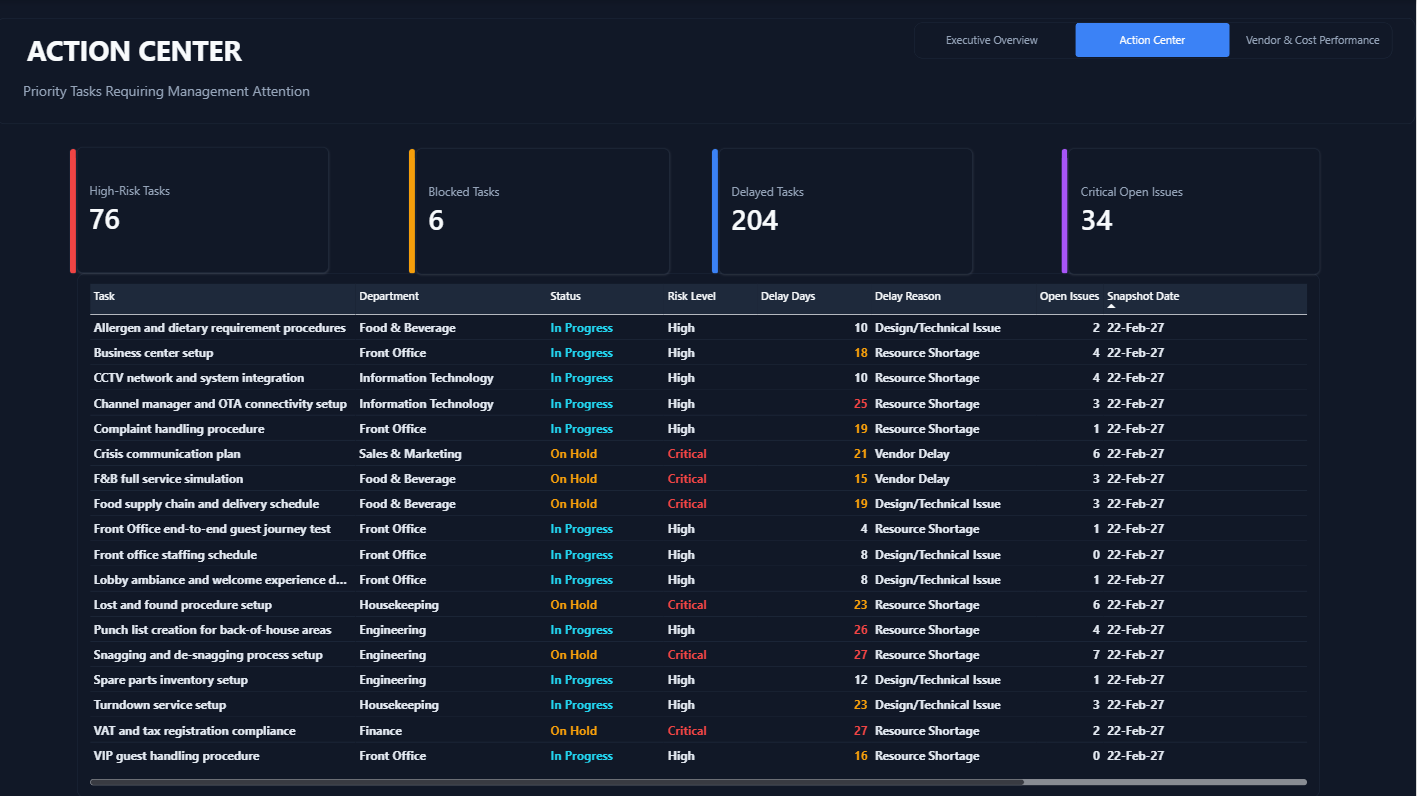

This screenshot's page, from the dashboard's own definition file:
{"tool":"powerbi","page":{"name":"Action Center","canvas":[1920,1080],"ordinal":1},"visuals":[{"type":"tableEx","fields":{"Values":["Tasks.Task_Name","Departments.Department_Name","TaskSnapshots.Status","TaskSnapshots.Risk_Level","Sum(TaskSnapshots.Delay_Days)","TaskSnapshots.Delay_Reason","Sum(TaskSnapshots.Open_Issues)","TaskSnapshots.Snapshot_Date"]},"box":[110,370,1680,710],"z":0},{"type":"textbox","box":[0,23.3,1920,143.3],"z":1000},{"type":"cardVisual","fields":{"Data":["Departments.High-Risk Tasks"]},"box":[109.6,199.2,340,170],"z":2000},{"type":"cardVisual","fields":{"Data":["Departments.Blocked Tasks"]},"box":[567.5,200,342.5,170],"z":3000},{"type":"cardVisual","fields":{"Data":["Departments.Delayed Tasks"]},"box":[977.5,200,342.5,170],"z":4000},{"type":"cardVisual","fields":{"Data":["Departments.Critical Open Issues"]},"box":[1450,200,340,170],"z":5000},{"type":"shape","box":[100,200,10,170],"z":6000},{"type":"shape","box":[557.5,200,10,170],"z":7000},{"type":"shape","box":[967.5,200,10,170],"z":8000},{"type":"shape","box":[1440,200,10,170],"z":9000},{"type":"pageNavigator","box":[1286.7,30,600,50],"z":9001}]}

Visuals, with their boxes in screenshot pixels (x1, y1, x2, y2), scaled from the page's 1920x1080 canvas onto the 1417x796 screenshot:
tableEx - Tasks.Task_Name x Departments.Department_Name: detection(81, 273, 1321, 795)
textbox: detection(0, 17, 1416, 123)
cardVisual - Departments.High-Risk Tasks: detection(81, 147, 332, 272)
cardVisual - Departments.Blocked Tasks: detection(419, 147, 672, 273)
cardVisual - Departments.Delayed Tasks: detection(721, 147, 974, 273)
cardVisual - Departments.Critical Open Issues: detection(1070, 147, 1321, 273)
shape: detection(74, 147, 81, 273)
shape: detection(411, 147, 419, 273)
shape: detection(714, 147, 721, 273)
shape: detection(1063, 147, 1070, 273)
pageNavigator: detection(950, 22, 1392, 59)
